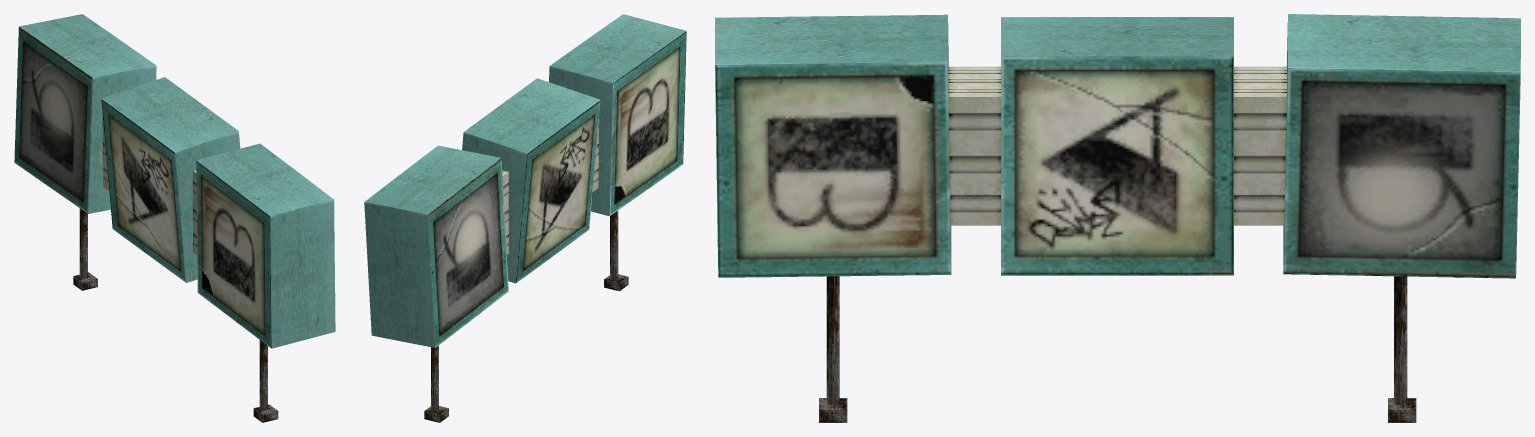
The model's file is bar_deco.fbx.
3 views of the same model, side by side, from view 1: azimuth 30°, elevation 25°; view 2: azimuth 150°, elevation 25°; view 3: azimuth 270°, elevation 25° (orthographic). The views are drawn at different scales.
Parts seen in each view (by area): view 1: mesh_0; view 2: mesh_0; view 3: mesh_0.
Part boxes in pixels (box(x1,y1,x2,y2)): mesh_0: box(14, 14, 335, 422); mesh_0: box(364, 14, 686, 422); mesh_0: box(715, 14, 1520, 422).
Size of the model in its own units: 96.12 by 295 by 567.
Materials: 1 (1 with a texture image).
